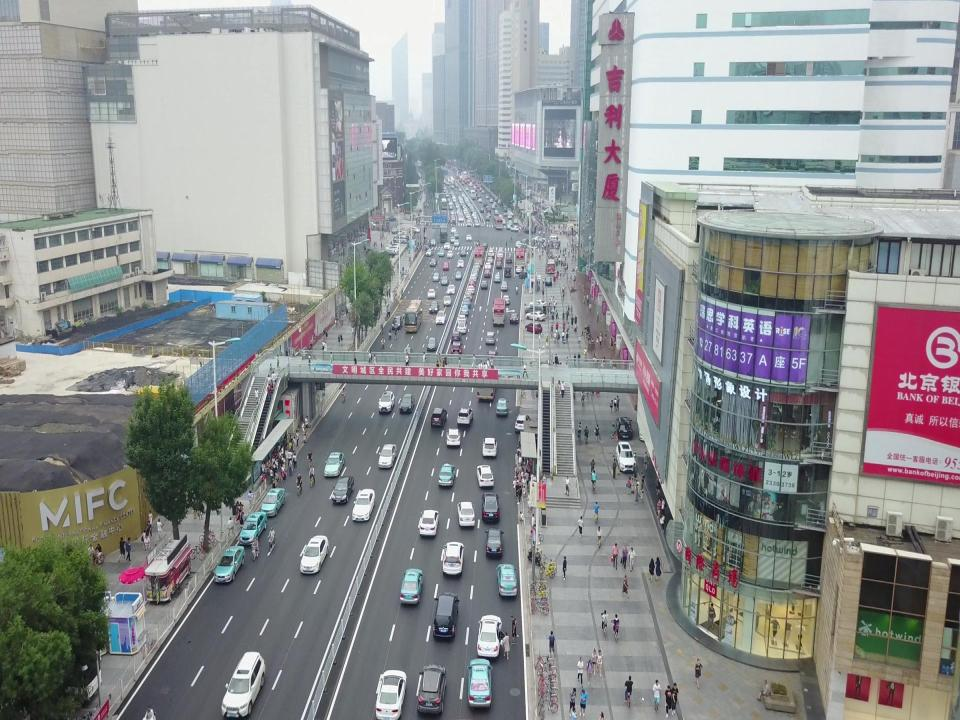bus: (476, 355, 498, 400), (404, 302, 422, 332), (493, 302, 505, 327)
car: (219, 650, 267, 717), (415, 662, 446, 716), (374, 668, 407, 718), (468, 657, 493, 709), (213, 546, 246, 584), (299, 534, 329, 574), (476, 615, 502, 657), (397, 568, 423, 605), (238, 512, 267, 544), (441, 540, 465, 575), (260, 489, 286, 518), (352, 488, 374, 522), (637, 413, 661, 442), (417, 509, 440, 537), (496, 564, 516, 596), (484, 526, 504, 558), (480, 492, 500, 524), (616, 441, 636, 472), (331, 475, 353, 503), (456, 500, 476, 528), (324, 451, 344, 477), (377, 443, 397, 468), (437, 464, 456, 488), (476, 465, 494, 488), (615, 416, 632, 438), (398, 392, 414, 415), (430, 407, 447, 428), (457, 406, 473, 427), (378, 391, 394, 412), (481, 439, 499, 457), (445, 427, 462, 446), (515, 412, 531, 431), (190, 539, 206, 557), (495, 397, 511, 415), (189, 545, 205, 562), (525, 323, 543, 335), (202, 535, 217, 548), (391, 312, 403, 328), (199, 528, 214, 540), (526, 311, 546, 320), (487, 349, 499, 364), (434, 310, 446, 325), (451, 341, 463, 354), (485, 330, 495, 345), (427, 336, 437, 351), (234, 510, 243, 526), (451, 330, 461, 343), (457, 313, 467, 326), (509, 312, 519, 324), (428, 302, 440, 312), (456, 322, 466, 333), (459, 305, 469, 316), (530, 390, 537, 400), (520, 389, 526, 399)
van: (433, 592, 460, 638), (525, 302, 547, 314)
